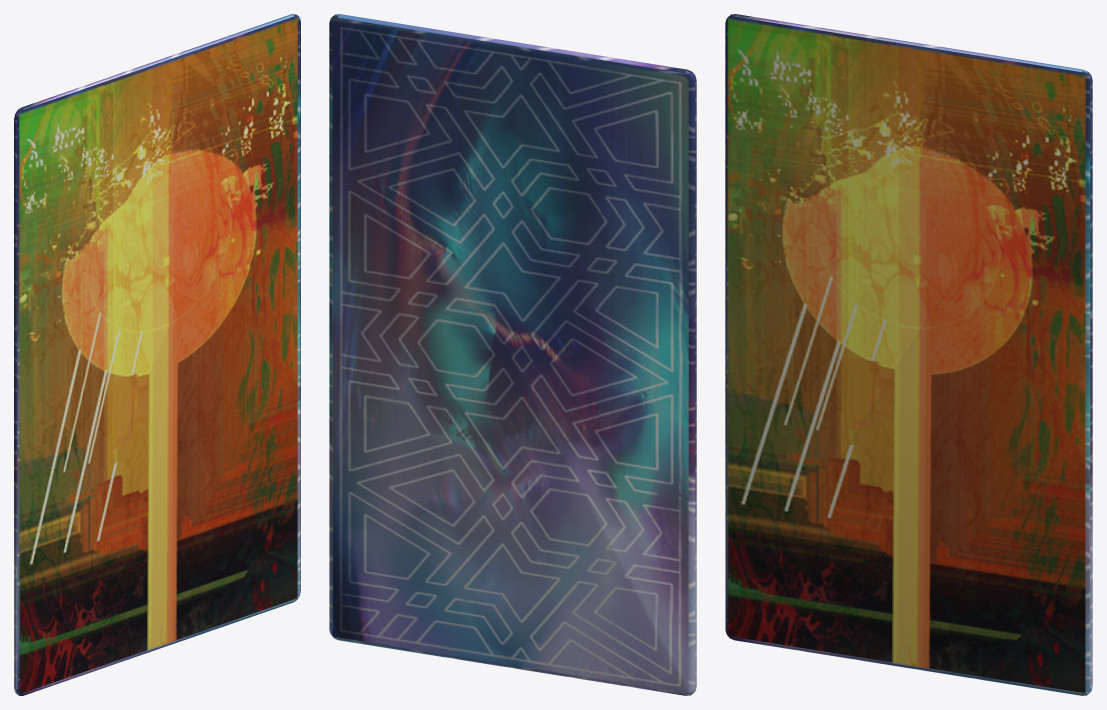
File: tarot_sun.fbx
3 views of the same model, side by side, from view 1: azimuth 30°, elevation 25°; view 2: azimuth 150°, elevation 25°; view 3: azimuth 330°, elevation 25° (orthographic). The views are drawn at different scales.
Visible parts, largest first — view 1: Cube_3; view 2: Cube_3; view 3: Cube_3.
Boxes of the visible parts, x1,y1,x2,y2 form: Cube_3: (14,14,300,695); Cube_3: (329,14,696,695); Cube_3: (725,14,1092,695).
Bounding box in the file's own units: 190 × 339 × 34.06.
Materials: 1 (1 with a texture image).
